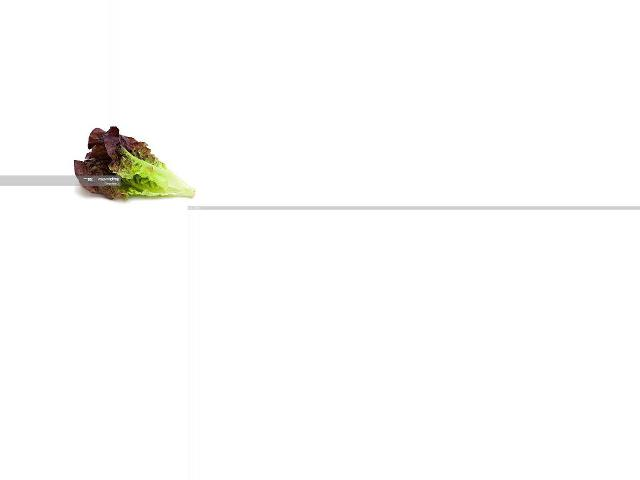lettuce: (71, 125, 199, 205)
